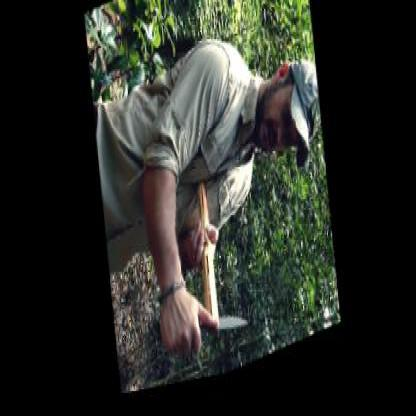knife: (171, 272, 251, 375)
